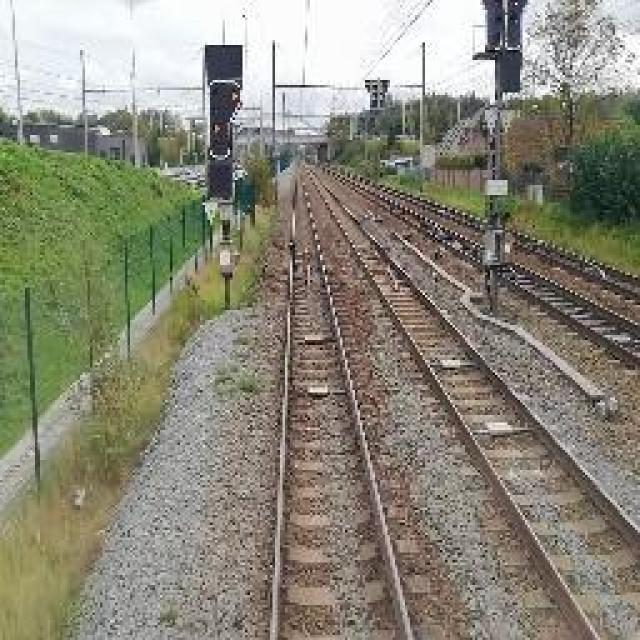rail: (246, 169, 445, 640)
